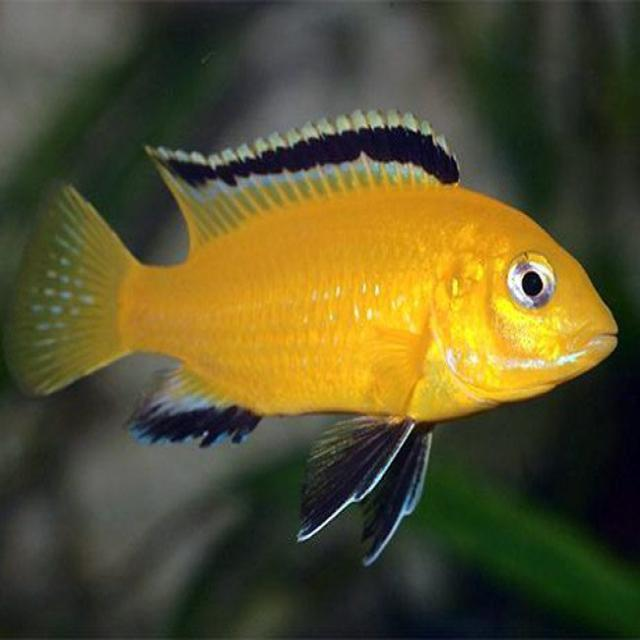YellowCichlid: (9, 95, 636, 568)
